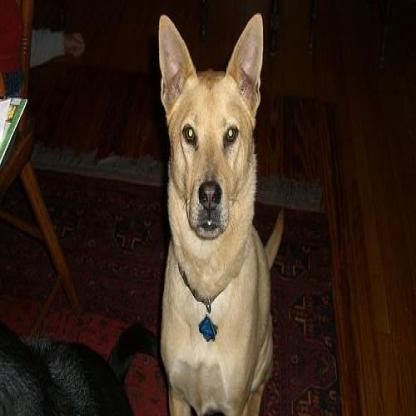dingo: (138, 6, 286, 413)
